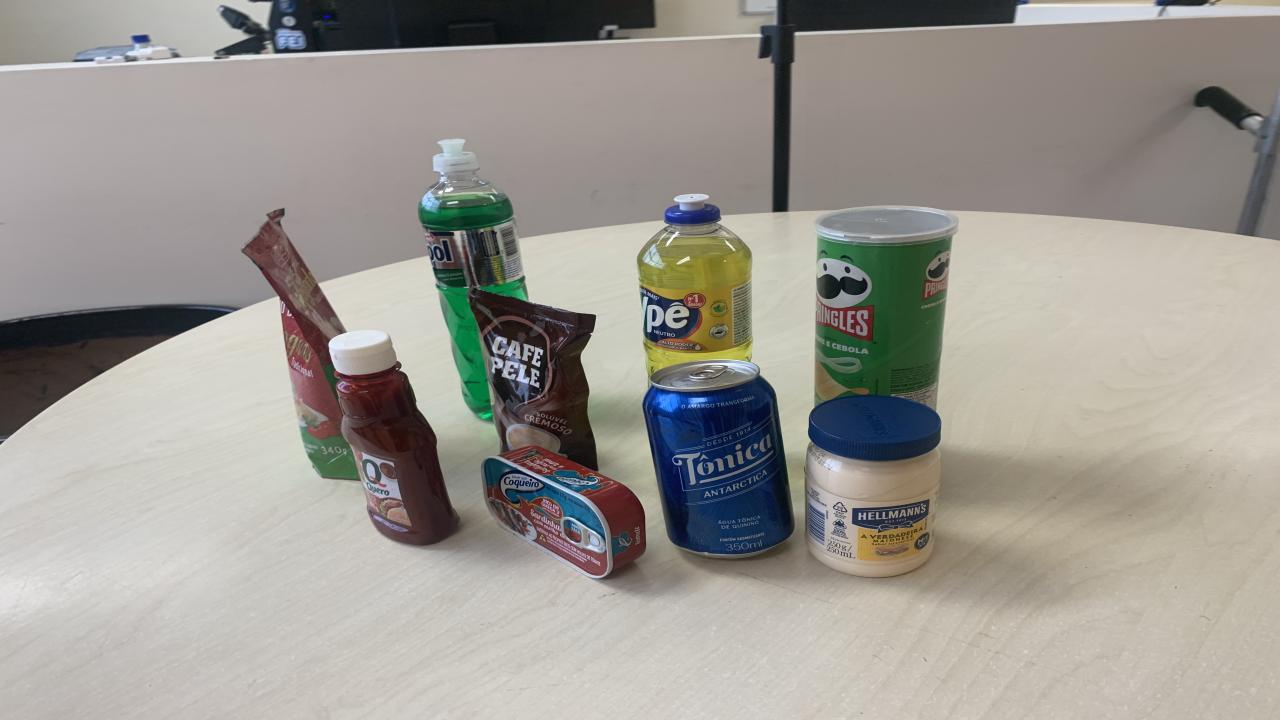Coffee-Pantry_Items: (470, 289, 598, 469)
Detergent-Cleanup_Items: (418, 139, 528, 420), (638, 195, 752, 375)
Ketchup-Pantry_Items: (328, 330, 458, 546)
Mayonnaise-Pantry_Items: (805, 396, 940, 578)
Pringles-Snacks: (815, 206, 958, 407)
Tomato_Sauce-Pantry_Items: (242, 210, 358, 480)
Tonic-Drinks: (642, 360, 792, 557)
Tuna_Can-Pantry_Items: (482, 448, 645, 578)
